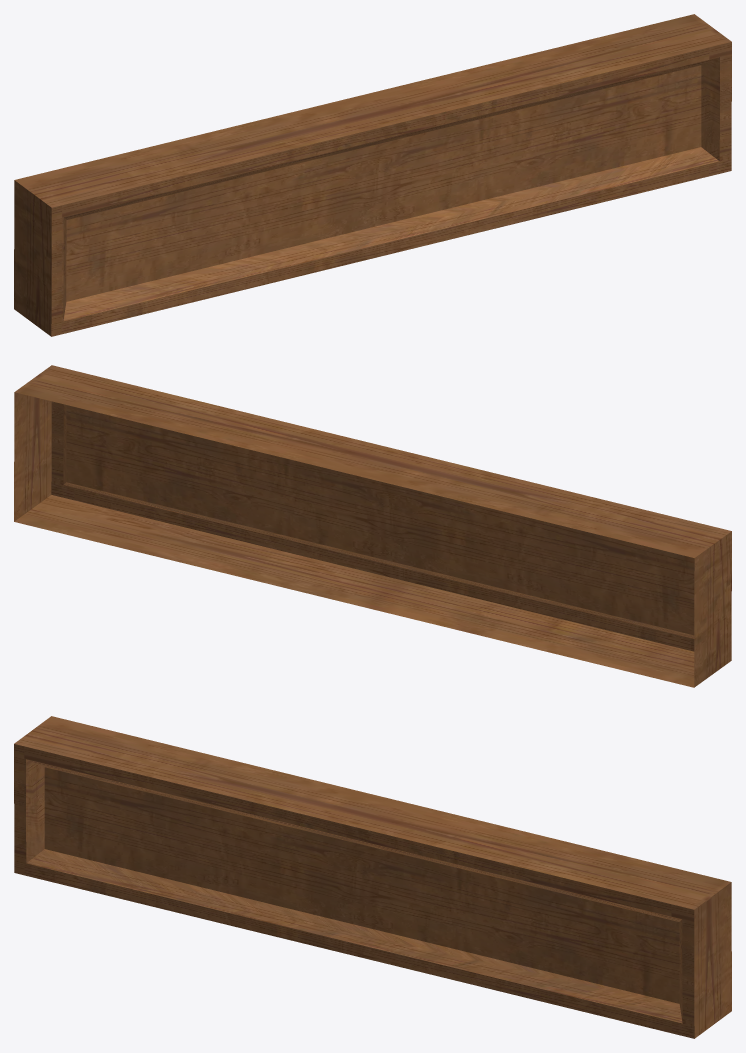
The model's file is pm-store-cartel.glb.
3 views of the same model, one above another, from view 1: azimuth 30°, elevation 25°; view 2: azimuth 150°, elevation 25°; view 3: azimuth 330°, elevation 25° (orthographic).
Visible parts, largest first — view 1: StoreCartel; view 2: StoreCartel; view 3: StoreCartel.
Part boxes in pixels (left/top/right/bottom): StoreCartel: left=14, top=14, right=731, bottom=336; StoreCartel: left=14, top=365, right=731, bottom=687; StoreCartel: left=14, top=716, right=731, bottom=1038.
Size of the model in its own units: 5.51 by 1 by 0.5307.
Materials: 1 (1 with a texture image).
